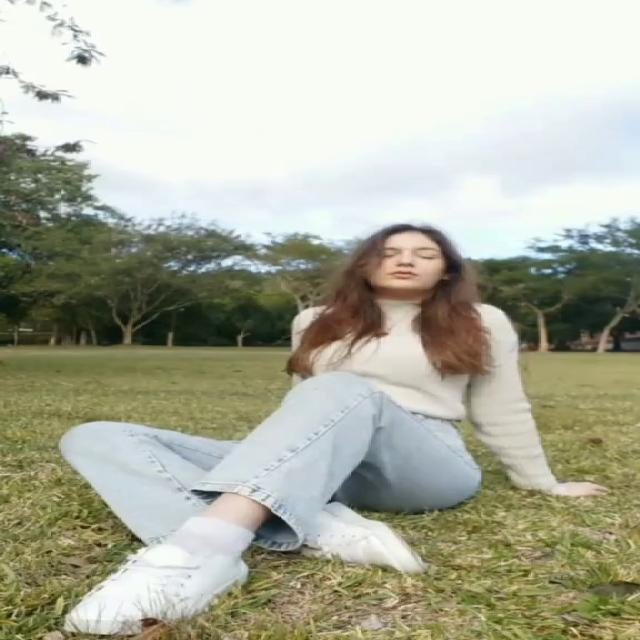sentado: (58, 224, 606, 639)
